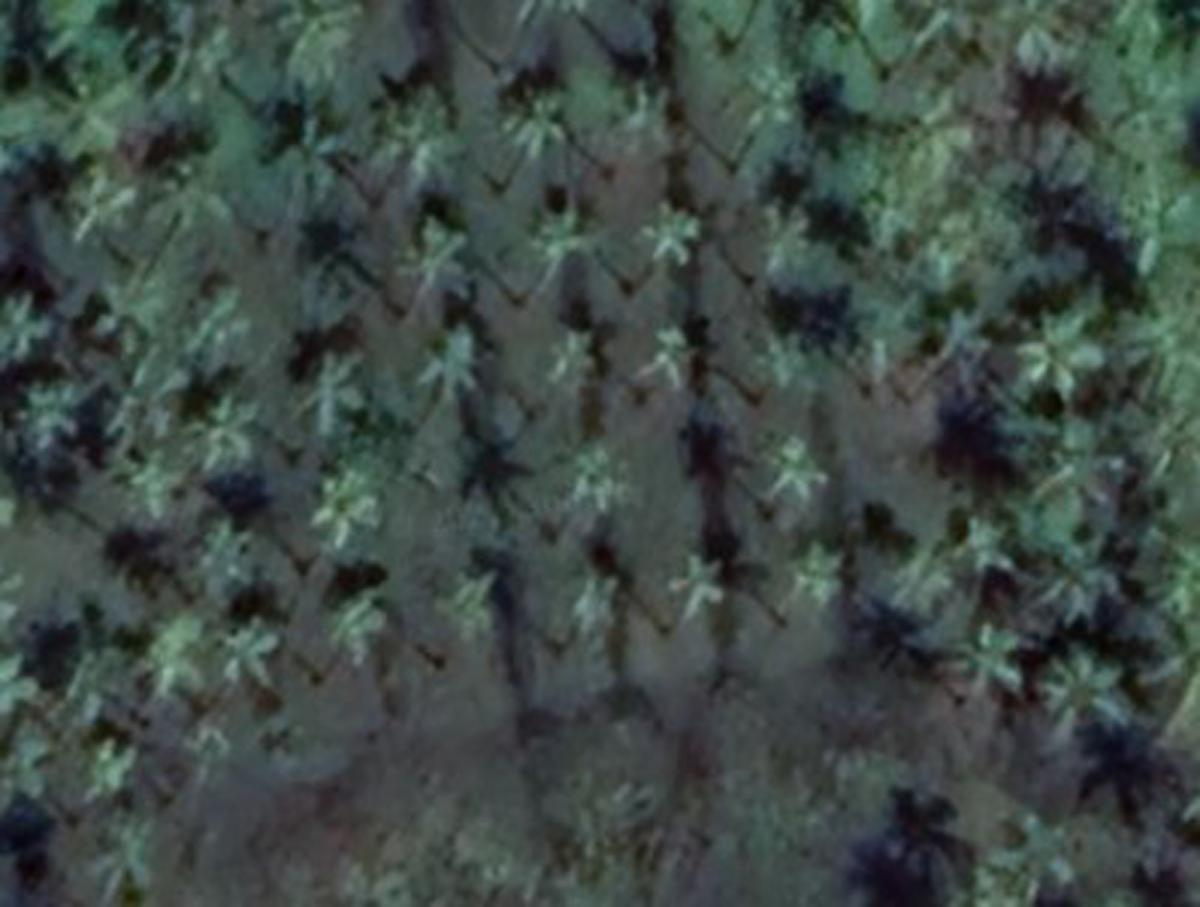coconut: (368, 75, 477, 187), (604, 78, 710, 178), (1030, 637, 1133, 731), (1036, 432, 1130, 529), (1015, 317, 1109, 411), (392, 211, 477, 308), (187, 393, 278, 483), (761, 429, 843, 526), (749, 320, 843, 402), (755, 187, 834, 284), (287, 347, 368, 441), (54, 154, 136, 244), (87, 359, 184, 435), (3, 281, 69, 390), (311, 471, 389, 562), (894, 90, 982, 169), (489, 81, 580, 157), (281, 108, 362, 193), (136, 619, 220, 698), (988, 819, 1073, 897), (562, 559, 640, 643), (187, 523, 262, 610), (169, 281, 244, 368), (930, 284, 1000, 374), (96, 828, 175, 903), (637, 323, 716, 396), (423, 323, 498, 399), (943, 507, 1015, 586), (791, 544, 867, 616), (882, 550, 958, 622), (87, 284, 166, 353), (326, 595, 405, 662), (646, 196, 716, 269), (120, 450, 187, 526), (562, 441, 631, 513), (531, 199, 601, 269), (444, 577, 513, 646), (668, 556, 737, 622), (217, 616, 281, 686), (958, 607, 1012, 689), (541, 329, 607, 396), (84, 734, 139, 804), (1054, 556, 1106, 622)
